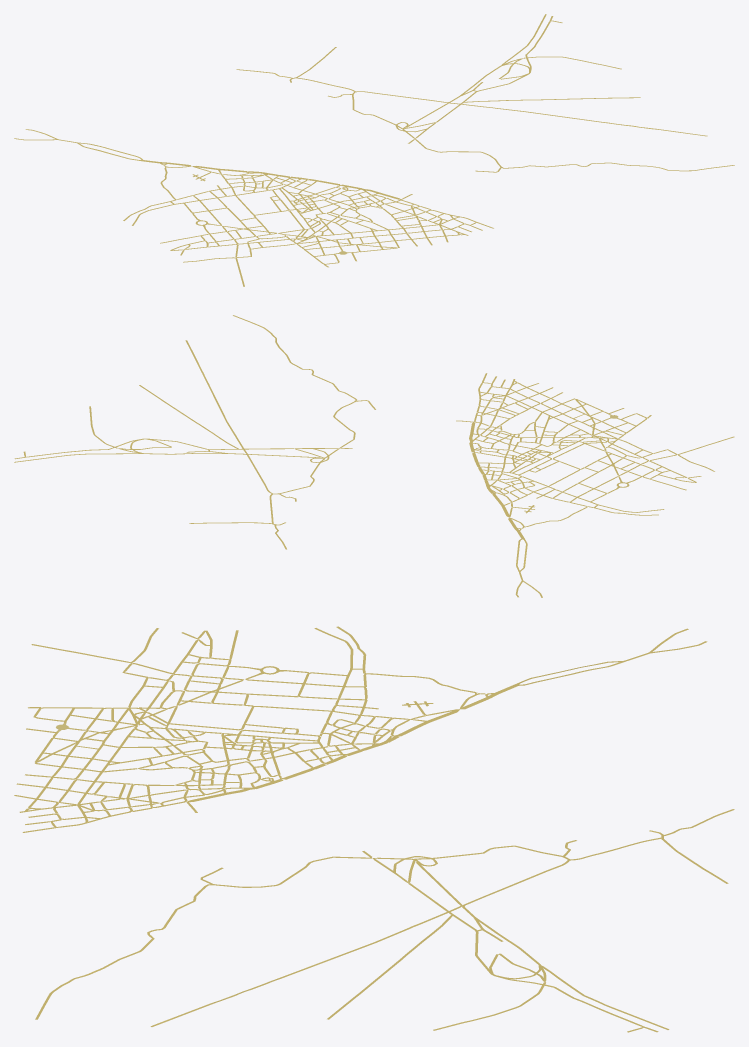
The model's file is SM_Roads_01.fbx.
3 renders of one model, top to bottom at view 1: azimuth 30°, elevation 25°; view 2: azimuth 150°, elevation 25°; view 3: azimuth 270°, elevation 25°, orthographic. The views are drawn at different scales.
Parts seen in each view (by area): view 1: SM_Roads_01; view 2: SM_Roads_01; view 3: SM_Roads_01.
Part boxes in pixels (<box>): SM_Roads_01: <box>14,14,734,286</box>; SM_Roads_01: <box>14,315,734,597</box>; SM_Roads_01: <box>14,626,734,1032</box>.
Size of the model in its own units: 6849 by 14.47 by 5127.
